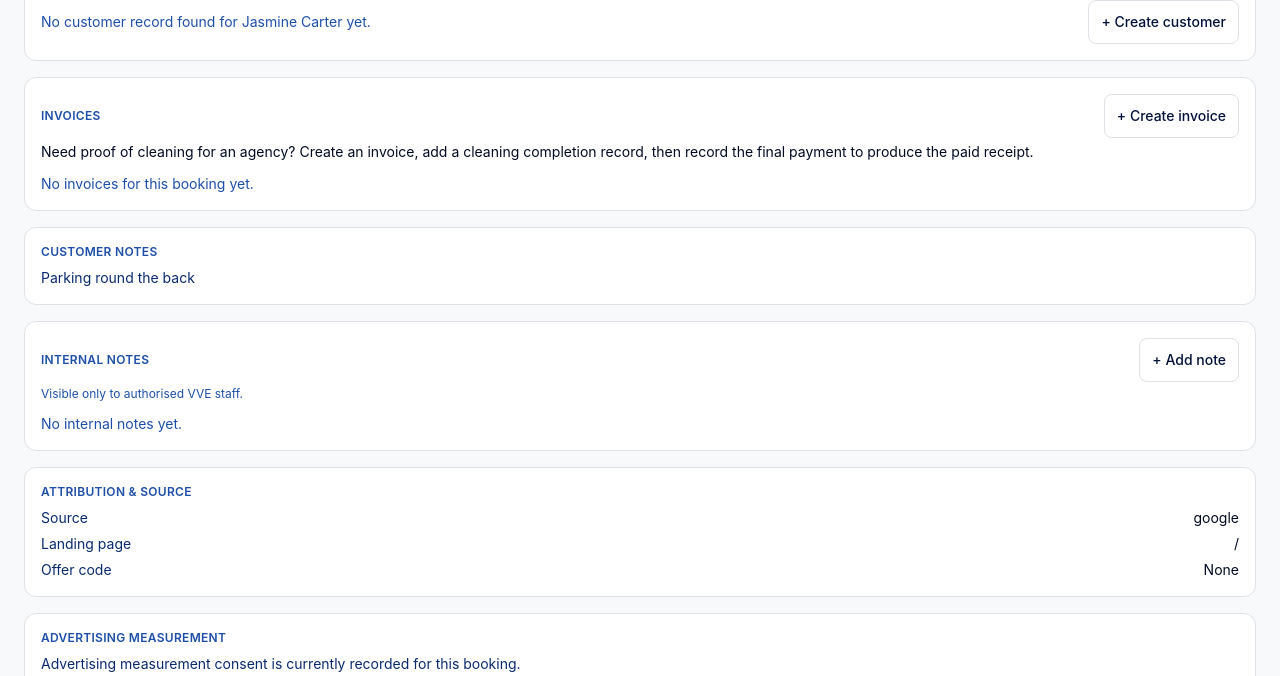
Test case: BookingDetailPage › internal notes › disables the save button while a submission is in flight (duplicate-submit prevention)
(page scrolled)
Expected: the text "No internal notes yet." is shown, [41,415,182,432]
Click the button "+ Add note" at (1189, 360), box [1139,338,1239,382]
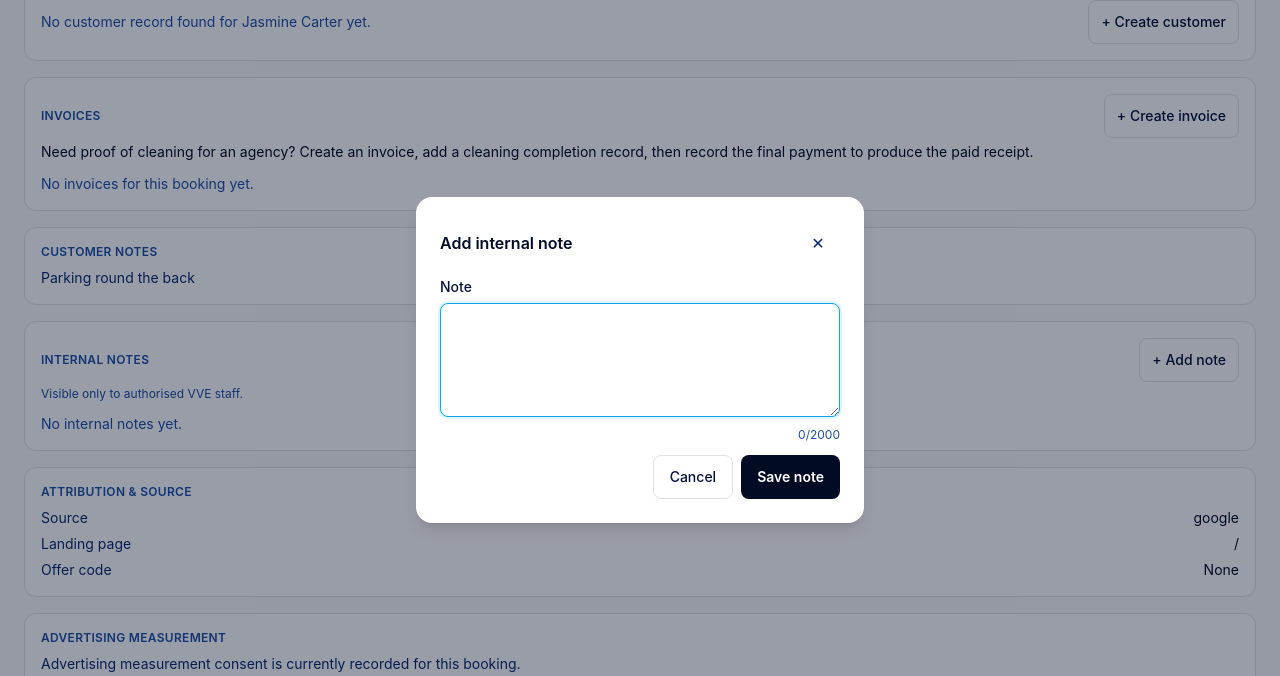
Type "A note" into the text box labelled "Note" at (640, 360), box [440,303,840,417]
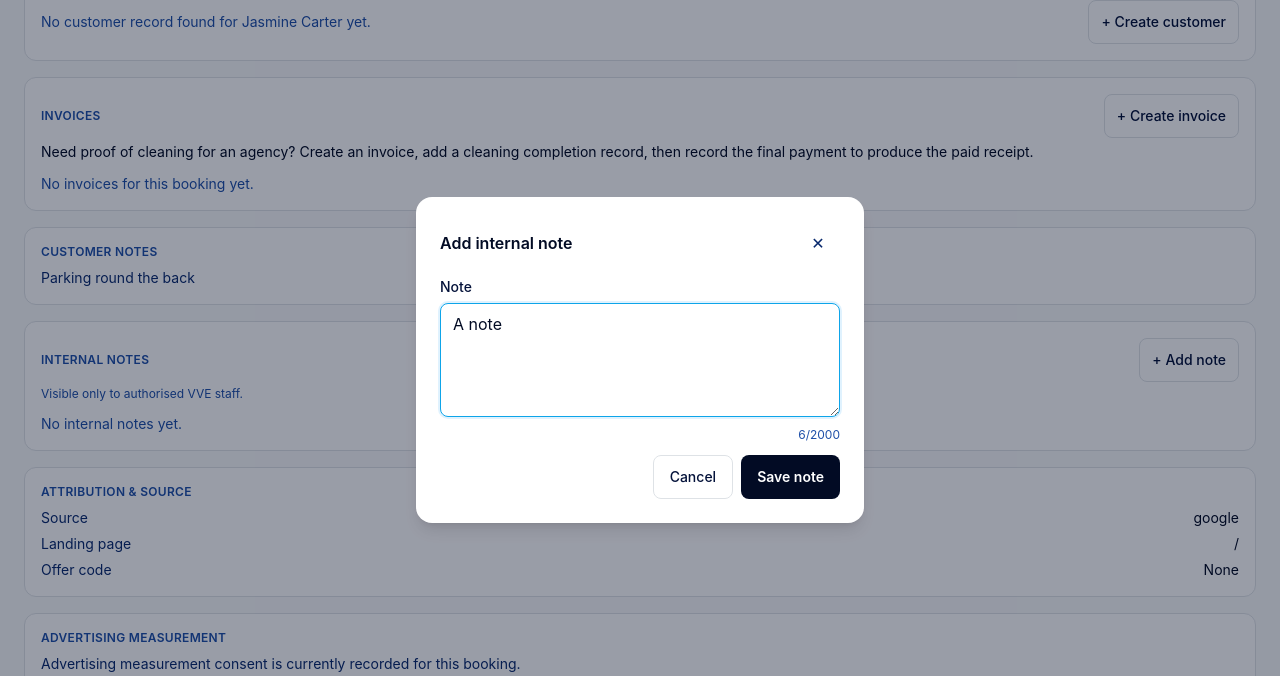
Click the button "Save note" at (791, 477), box [741,455,840,499]
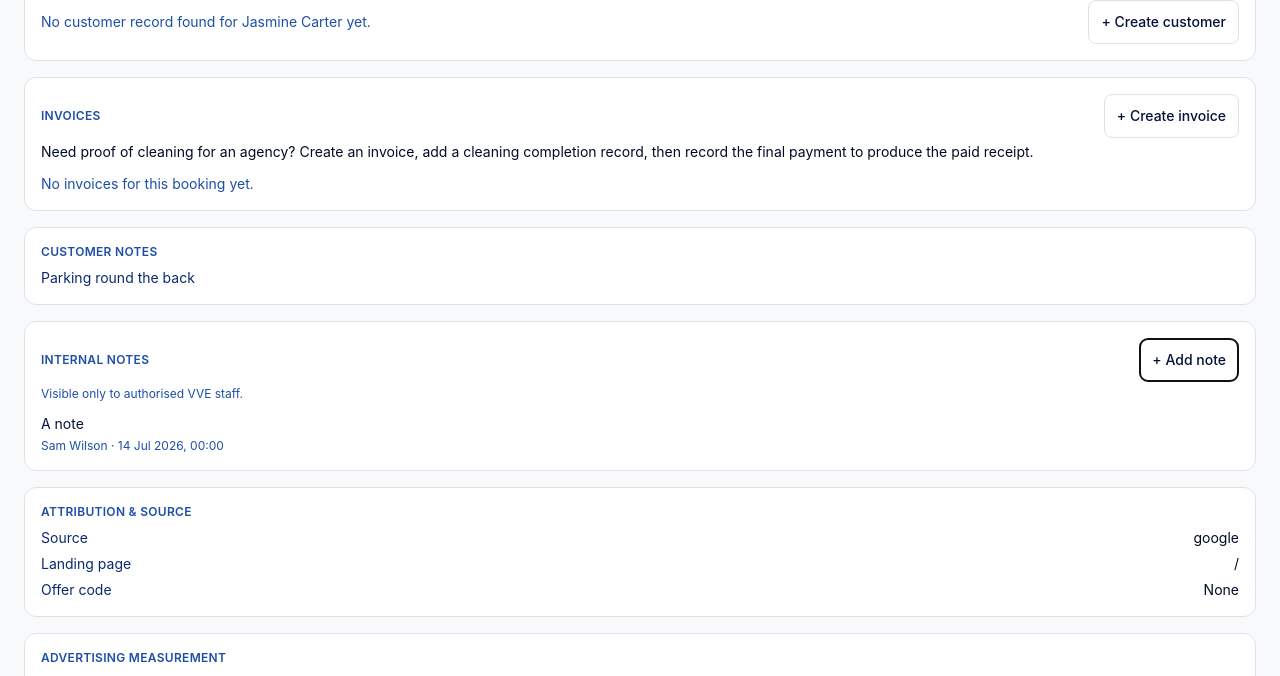
Expected: the dialog is gone
